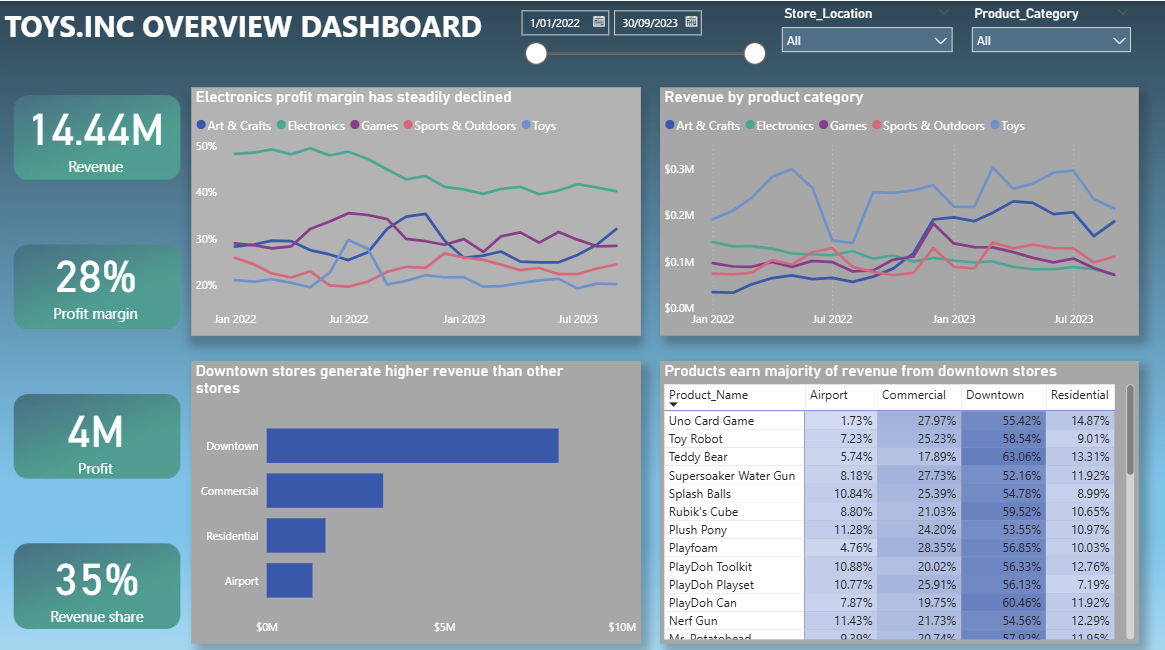

The page's visual inventory and layout, read from the dashboard file:
{"tool":"powerbi","page":{"name":"Overview","canvas":[1280,720],"ordinal":0},"visuals":[{"type":"card","fields":{"Values":["sales_copy.Revenue"]},"box":[16.5,94.7,177,104.3],"z":0},{"type":"card","fields":{"Values":["sales_copy.Profit"]},"box":[16.5,430.9,177,93.3],"z":1000},{"type":"card","fields":{"Values":["sales_copy.Profit margin"]},"box":[16.5,255.2,177,104.3],"z":2000},{"type":"card","fields":{"Values":["products_copy.Top Category Revenue %"]},"box":[17.8,594.2,177,93.3],"z":3000},{"type":"slicer","fields":{"Values":["products_copy.Product_Category"]},"box":[1056,0,194.8,77.9],"z":4000},{"type":"lineChart","title":"Electronics profit margin has steadily declined","fields":{"Category":["sales_copy.Date.Variation.Date Hierarchy.Year","sales_copy.Date.Variation.Date Hierarchy.Month"],"Series":["products_copy.Product_Category"],"Y":["sales_copy.Profit margin"]},"box":[210.1,94.6,493.9,272.7],"z":5000},{"type":"lineChart","title":"Revenue by product category","fields":{"Y":["sales_copy.Revenue"],"Category":["sales_copy.Date.Variation.Date Hierarchy.Year","sales_copy.Date.Variation.Date Hierarchy.Month"],"Series":["products_copy.Product_Category Hierarchy.Product_Category"]},"box":[724.9,94.6,525.9,272.7],"z":6000},{"type":"slicer","fields":{"Values":["sales_copy.Date"]},"box":[559.9,0,289.5,78.2],"z":7000},{"type":"pivotTable","title":"Products earn majority of revenue from downtown stores","fields":{"Rows":["products_copy.Product_Name"],"Columns":["stores_copy.Store_Location"],"Values":["stores_copy.Revenue % by Category"]},"box":[724.9,395.1,525.9,310.3],"z":8000},{"type":"textbox","box":[0,0,545.4,77.9],"z":9000},{"type":"clusteredBarChart","title":"Downtown stores generate higher revenue than other stores","fields":{"Category":["stores_copy.Store_Location"],"Y":["sales_copy.Revenue"]},"box":[210.1,395.1,493.9,310.3],"z":10000},{"type":"slicer","fields":{"Values":["stores_copy.Store_Location"]},"box":[848.7,0,207.3,77.9],"z":11000}]}

Visuals, with their boxes in screenshot pixels (x1, y1, x2, y2), scaled from the page's 1280x720 canvas onto the 1165x650 screenshot:
card - sales_copy.Revenue: crop(15, 85, 176, 180)
card - sales_copy.Profit: crop(15, 389, 176, 473)
card - sales_copy.Profit margin: crop(15, 230, 176, 325)
card - products_copy.Top Category Revenue %: crop(16, 536, 177, 621)
slicer - products_copy.Product_Category: crop(961, 0, 1138, 70)
"Electronics profit margin has steadily declined" lineChart: crop(191, 85, 641, 332)
"Revenue by product category" lineChart: crop(660, 85, 1138, 332)
slicer - sales_copy.Date: crop(510, 0, 773, 71)
"Products earn majority of revenue from downtown stores" pivotTable: crop(660, 357, 1138, 637)
textbox: crop(0, 0, 496, 70)
"Downtown stores generate higher revenue than other stores" clusteredBarChart: crop(191, 357, 641, 637)
slicer - stores_copy.Store_Location: crop(772, 0, 961, 70)
